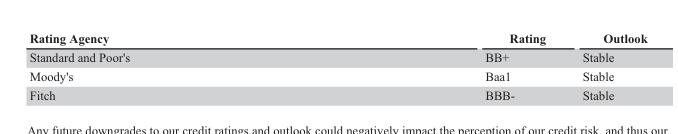table: (28, 29, 646, 102)
table column: (28, 29, 306, 102), (306, 29, 563, 102), (563, 29, 646, 102)
table column header: (28, 29, 646, 47)
table row: (28, 65, 646, 84), (28, 29, 646, 47), (28, 47, 646, 65), (28, 84, 646, 102)
